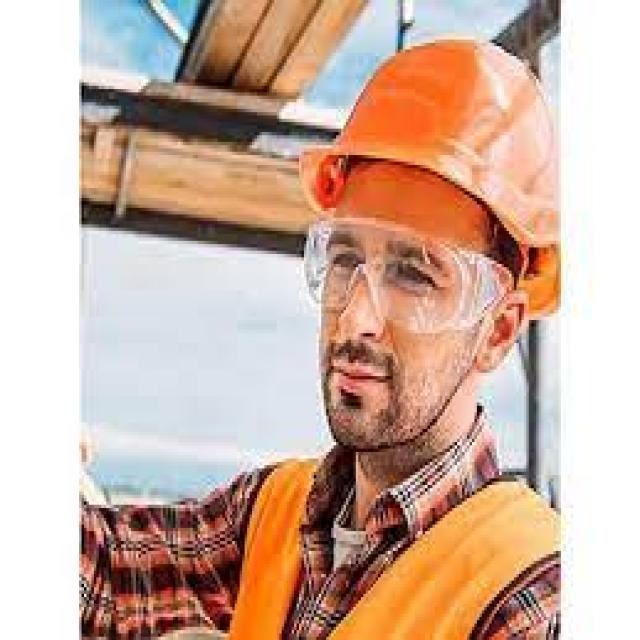glasses: (302, 210, 503, 336)
